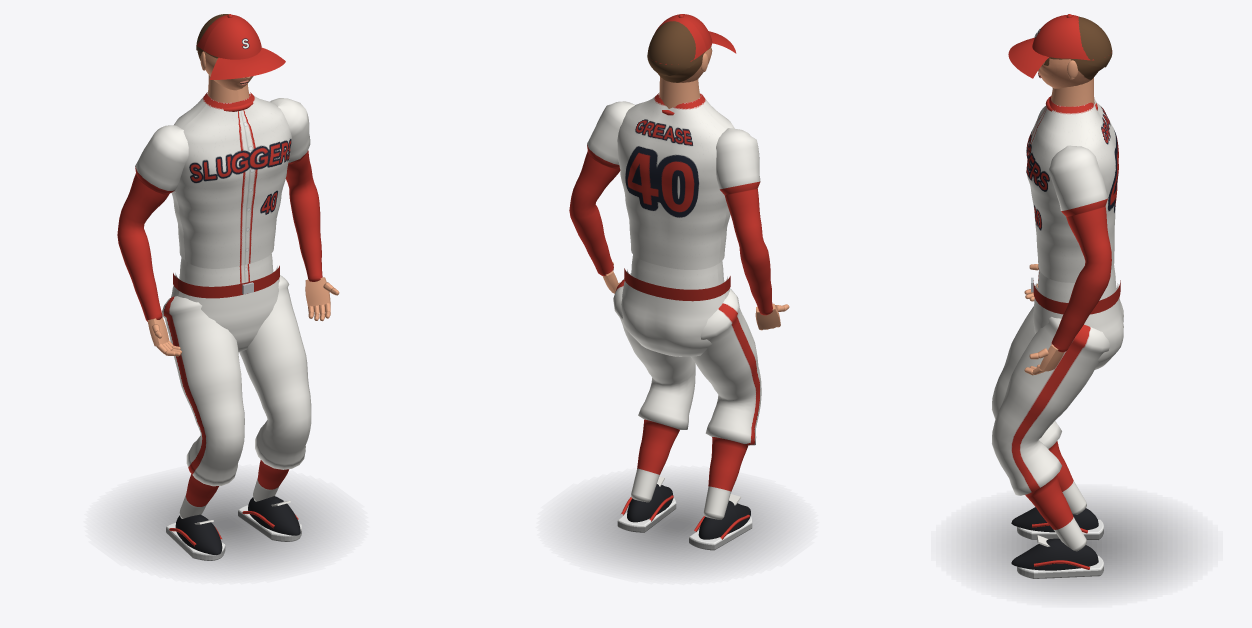
The model's file is player_09_home.glb.
The picture shows the model from 3 angles, left to right: view 1: azimuth 30°, elevation 25°; view 2: azimuth 150°, elevation 25°; view 3: azimuth 270°, elevation 25°; orthographic projection. The views are drawn at different scales.
Parts seen in each view (by area): view 1: player_09_home, object 30, object 32, object 2; view 2: player_09_home, object 29, object 2, object 30; view 3: player_09_home, object 30, object 29, object 34, object 32, object 2.
Boxes of the visible parts, left/top/right/bottom form: player_09_home: left=117, top=92, right=334, bottom=570; object 30: left=196, top=14, right=261, bottom=59; object 32: left=209, top=47, right=285, bottom=79; object 2: left=207, top=75, right=249, bottom=102; player_09_home: left=569, top=93, right=785, bottom=570; object 29: left=647, top=21, right=711, bottom=76; object 2: left=659, top=77, right=700, bottom=108; object 30: left=652, top=14, right=712, bottom=64; player_09_home: left=966, top=95, right=1187, bottom=592; object 30: left=1032, top=14, right=1112, bottom=60; object 29: left=1049, top=16, right=1112, bottom=67; object 34: left=1038, top=58, right=1103, bottom=88; object 32: left=1008, top=37, right=1049, bottom=78; object 2: left=1051, top=77, right=1094, bottom=106.
Bounding box in the file's own units: 3.23 × 5.98 × 3.23.
Materials: 27 (5 with a texture image).
